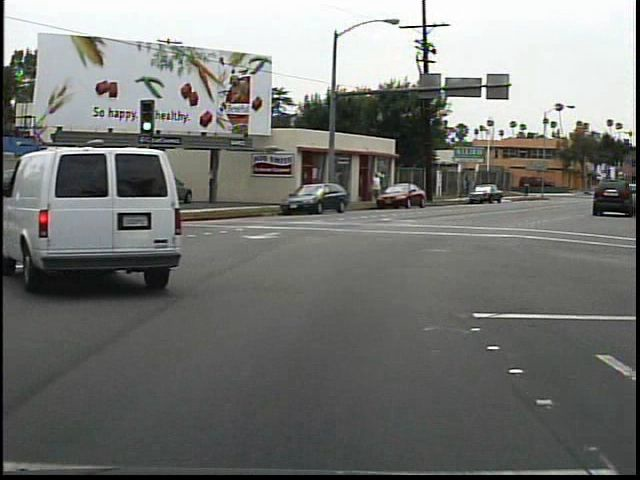person: (368, 169, 387, 209), (521, 178, 533, 200)
